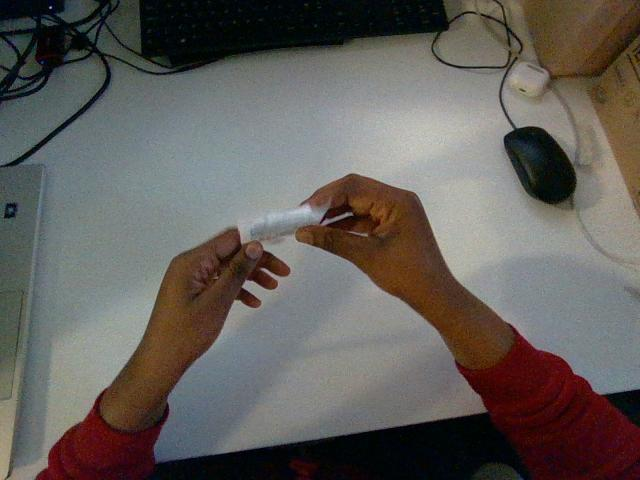gauze: (238, 204, 327, 242)
